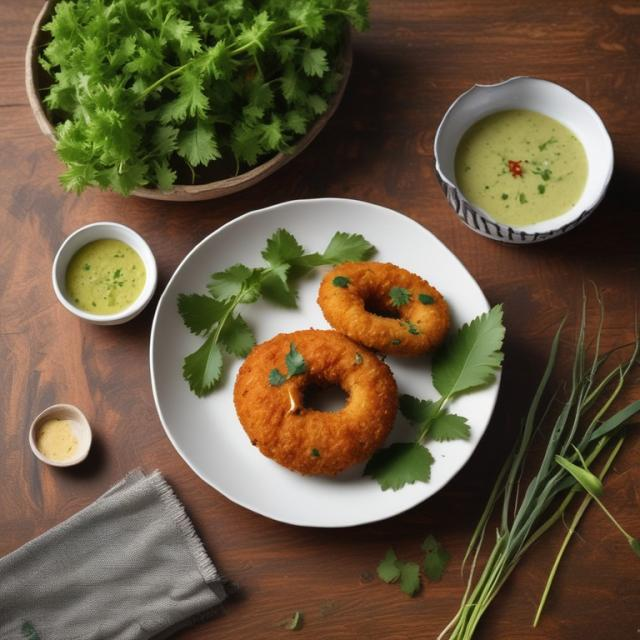MEDU VADA: (232, 332, 400, 479), (317, 258, 453, 356)
